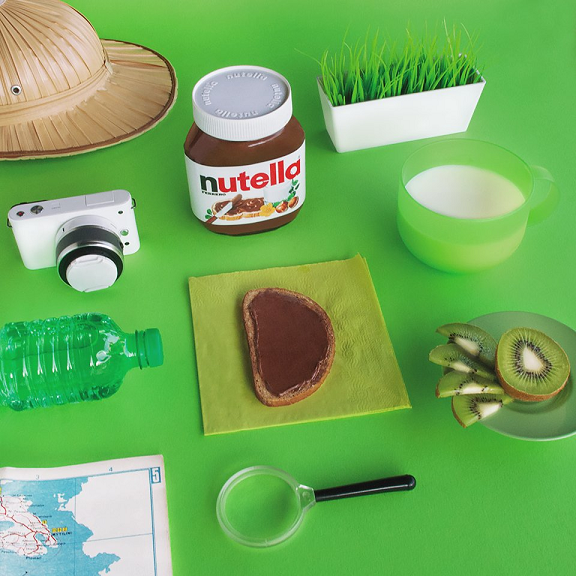nutella: (182, 63, 307, 237)
